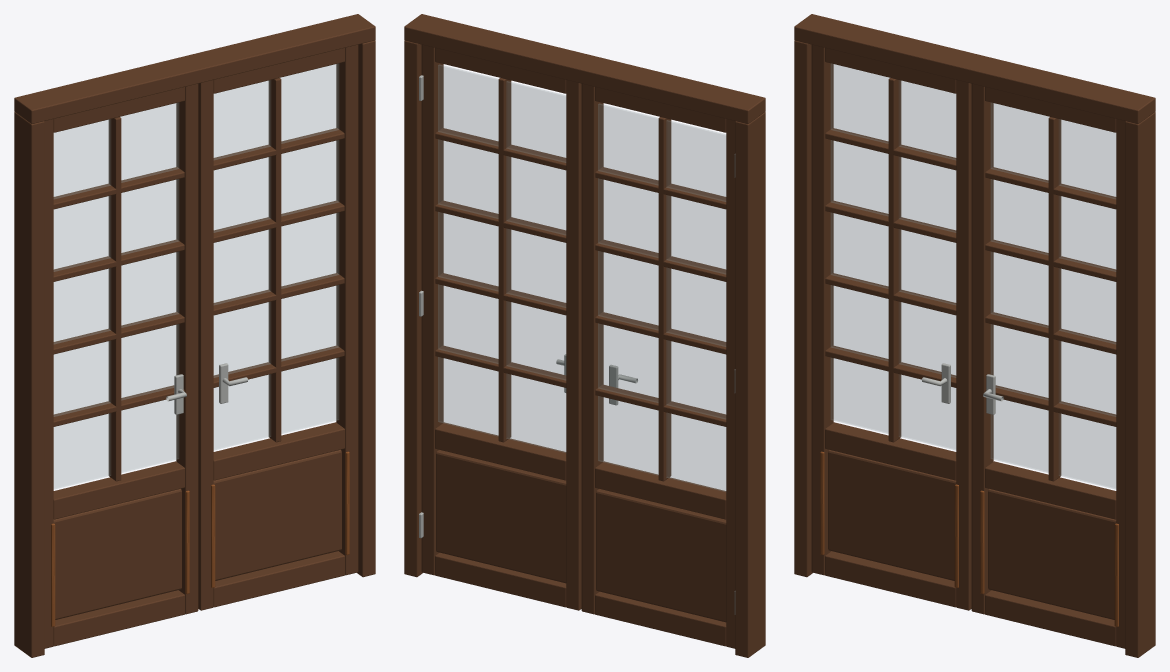
The model's file is classroom_double_door.glb.
3 views of the same model, side by side, from view 1: azimuth 30°, elevation 25°; view 2: azimuth 150°, elevation 25°; view 3: azimuth 330°, elevation 25° (orthographic).
Visible parts, largest first — view 1: KAClass_Door_Frame_Jamb, KAClass_Door_Right_Lower_Panel, KAClass_Door_Left_Lower_Panel, KAClass_Door_Frame_Header, KAClass_Door_Right_Stile.001, KAClass_Door_Left_Stile.001, KAClass_Door_Frame_Jamb.001, KAClass_Door_Right_Stile, KAClass_Door_Left_Stile, KAClass_Door_Left_Center_Mullion, KAClass_Door_Right_Center_Mullion, KAClass_Door_Right_Glass.009 (+33 smaller); view 2: KAClass_Door_Frame_Jamb, KAClass_Door_Right_Lower_Panel, KAClass_Door_Left_Lower_Panel, KAClass_Door_Frame_Header, KAClass_Door_Left_Stile.001, KAClass_Door_Right_Stile.001, KAClass_Door_Frame_Jamb.001, KAClass_Door_Right_Stile, KAClass_Door_Left_Stile, KAClass_Door_Left_Center_Mullion, KAClass_Door_Right_Center_Mullion, KAClass_Door_Left_Glass.009 (+33 smaller); view 3: KAClass_Door_Frame_Jamb.001, KAClass_Door_Left_Lower_Panel, KAClass_Door_Right_Lower_Panel, KAClass_Door_Frame_Header, KAClass_Door_Left_Stile, KAClass_Door_Right_Stile, KAClass_Door_Frame_Jamb, KAClass_Door_Left_Stile.001, KAClass_Door_Right_Stile.001, KAClass_Door_Right_Center_Mullion, KAClass_Door_Left_Center_Mullion, KAClass_Door_Left_Glass.004 (+33 smaller).
Boxes of the visible parts, x1,y1,x2,y2 form: KAClass_Door_Frame_Jamb: (14, 112, 44, 657); KAClass_Door_Right_Lower_Panel: (213, 449, 341, 580); KAClass_Door_Left_Lower_Panel: (53, 488, 181, 619); KAClass_Door_Frame_Header: (14, 14, 375, 123); KAClass_Door_Right_Stile.001: (336, 44, 358, 575); KAClass_Door_Left_Stile.001: (176, 84, 198, 614); KAClass_Door_Frame_Jamb.001: (357, 40, 375, 577); KAClass_Door_Right_Stile: (198, 80, 213, 610); KAClass_Door_Left_Stile: (44, 119, 53, 648); KAClass_Door_Left_Center_Mullion: (108, 117, 121, 481); KAClass_Door_Right_Center_Mullion: (268, 78, 281, 442); KAClass_Door_Right_Glass.009: (281, 63, 338, 143); KAClass_Door_Frame_Jamb: (735, 112, 765, 657); KAClass_Door_Right_Lower_Panel: (436, 449, 566, 583); KAClass_Door_Left_Lower_Panel: (596, 488, 726, 622); KAClass_Door_Frame_Header: (404, 14, 765, 123); KAClass_Door_Left_Stile.001: (581, 84, 603, 614); KAClass_Door_Right_Stile.001: (421, 44, 443, 575); KAClass_Door_Frame_Jamb.001: (404, 40, 422, 577); KAClass_Door_Right_Stile: (566, 80, 581, 610); KAClass_Door_Left_Stile: (726, 119, 735, 648); KAClass_Door_Left_Center_Mullion: (658, 117, 671, 481); KAClass_Door_Right_Center_Mullion: (498, 78, 511, 442); KAClass_Door_Left_Glass.009: (598, 104, 658, 184); KAClass_Door_Frame_Jamb.001: (1125, 112, 1155, 657); KAClass_Door_Left_Lower_Panel: (828, 449, 956, 580); KAClass_Door_Right_Lower_Panel: (988, 488, 1116, 619); KAClass_Door_Frame_Header: (794, 14, 1155, 123); KAClass_Door_Left_Stile: (811, 44, 833, 575); KAClass_Door_Right_Stile: (971, 84, 993, 614); KAClass_Door_Frame_Jamb: (794, 40, 812, 577); KAClass_Door_Left_Stile.001: (956, 80, 971, 610); KAClass_Door_Right_Stile.001: (1116, 119, 1125, 648); KAClass_Door_Right_Center_Mullion: (1048, 117, 1061, 481); KAClass_Door_Left_Center_Mullion: (888, 78, 901, 442); KAClass_Door_Left_Glass.004: (831, 63, 888, 143).
Bounding box in the file's own units: 1.79 × 2.72 × 0.202.
4 materials, 1 textured.
